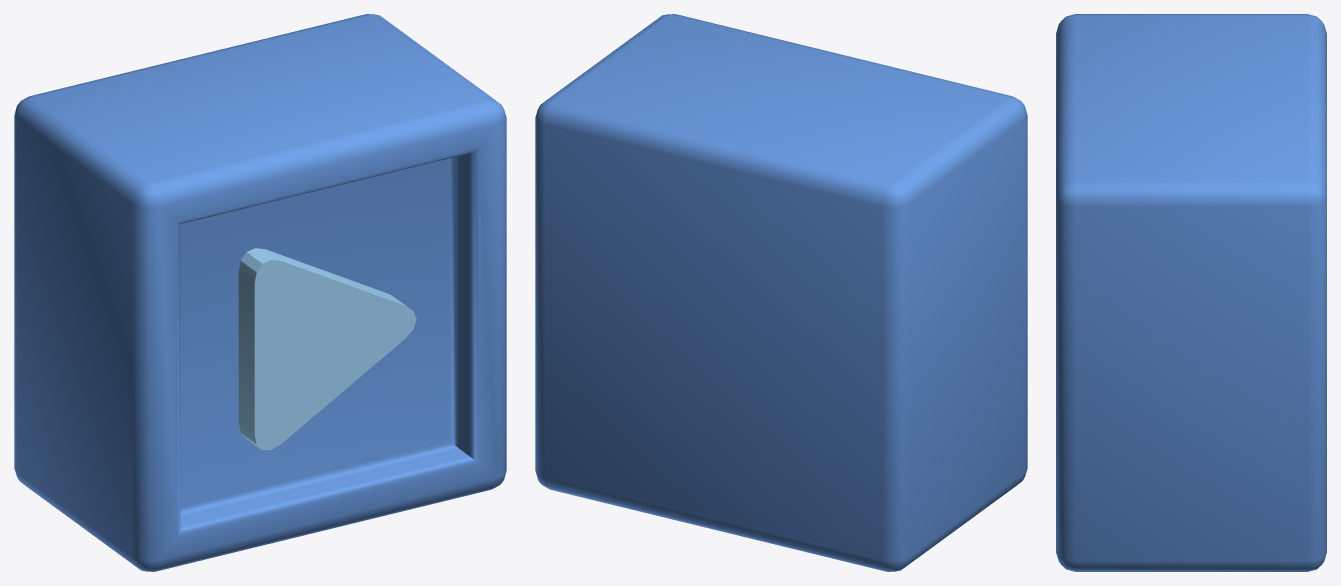
The model's file is UIBtn_NEWGAME.fbx.
3 renders of one model, left to right at view 1: azimuth 30°, elevation 25°; view 2: azimuth 150°, elevation 25°; view 3: azimuth 270°, elevation 25°, orthographic.
Visible parts, largest first — view 1: BTN, PLAY; view 2: BTN; view 3: BTN.
Part boxes in pixels (x1,y1,x2,y2): BTN: (14, 14, 506, 571); PLAY: (238, 248, 416, 450); BTN: (535, 14, 1027, 571); BTN: (1056, 14, 1326, 571).
Bounding box in the file's own units: 199 × 199 × 126.
